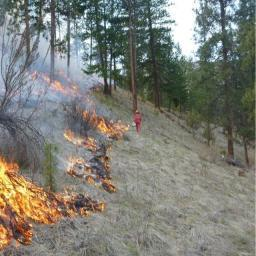Medium fire: (4, 50, 122, 256)
